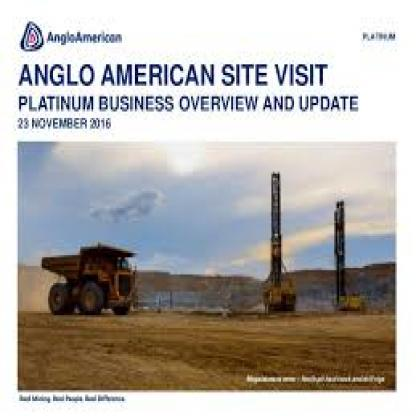dump_truck: (40, 221, 159, 328)
